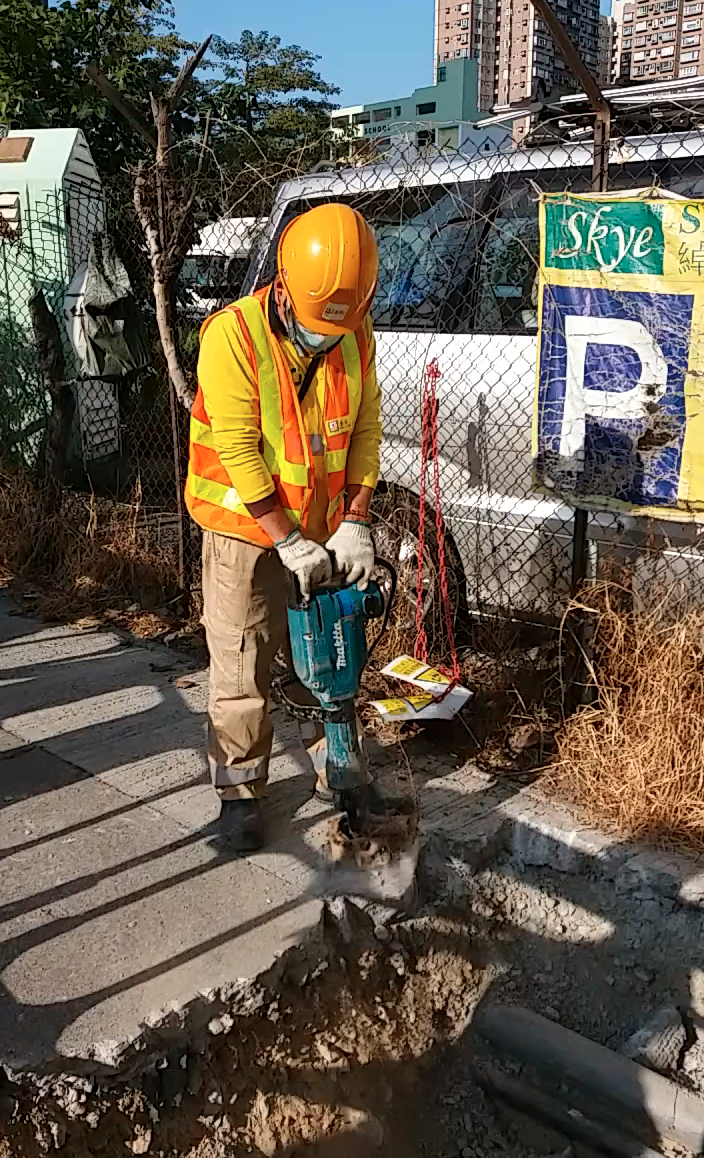Hard Hat: (267, 206, 381, 353)
Person: (188, 206, 415, 849)
Vest: (193, 300, 384, 547)
